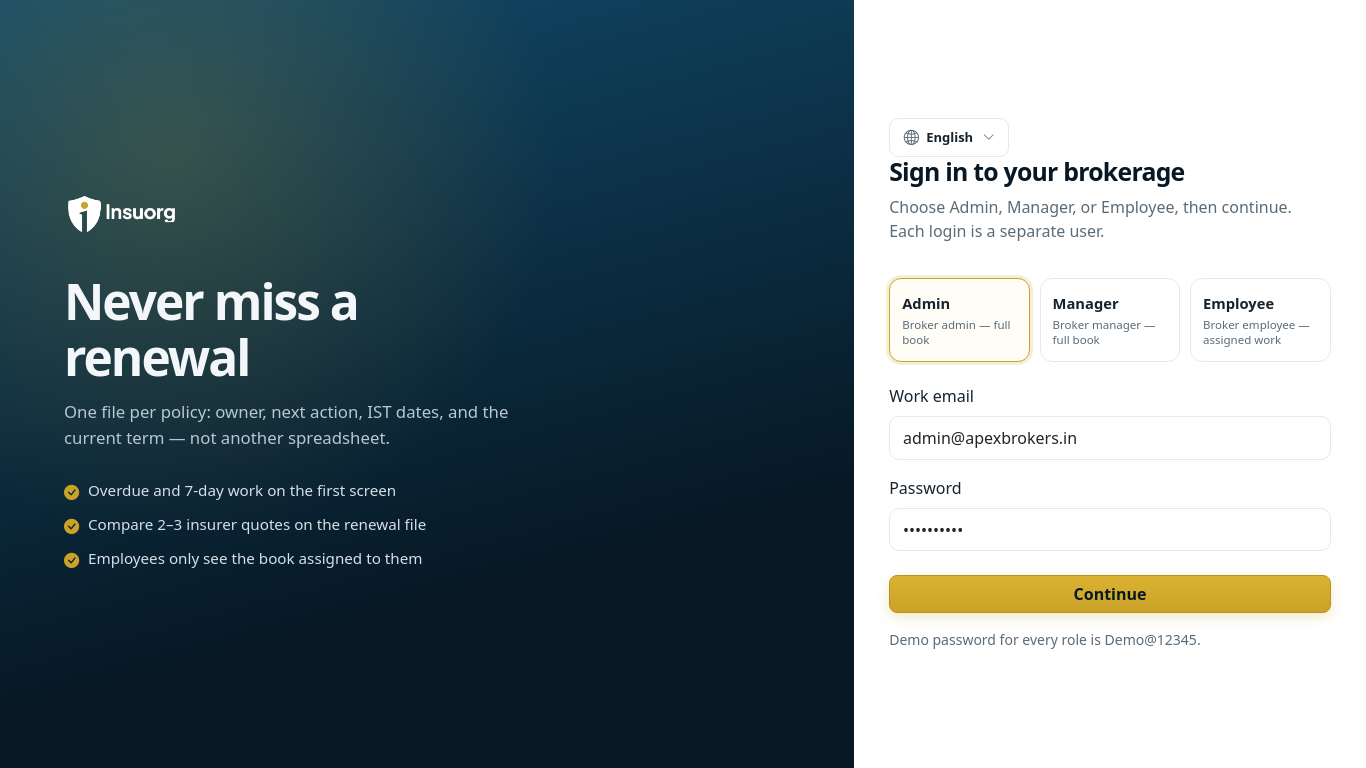
Test: LoginPage › fills a separate manager account from the demo picker
The width and height of the screenshot is (1366, 768).
Click the button "Manager Broker manager — full book" at (1110, 320), box [1040,278,1180,362]
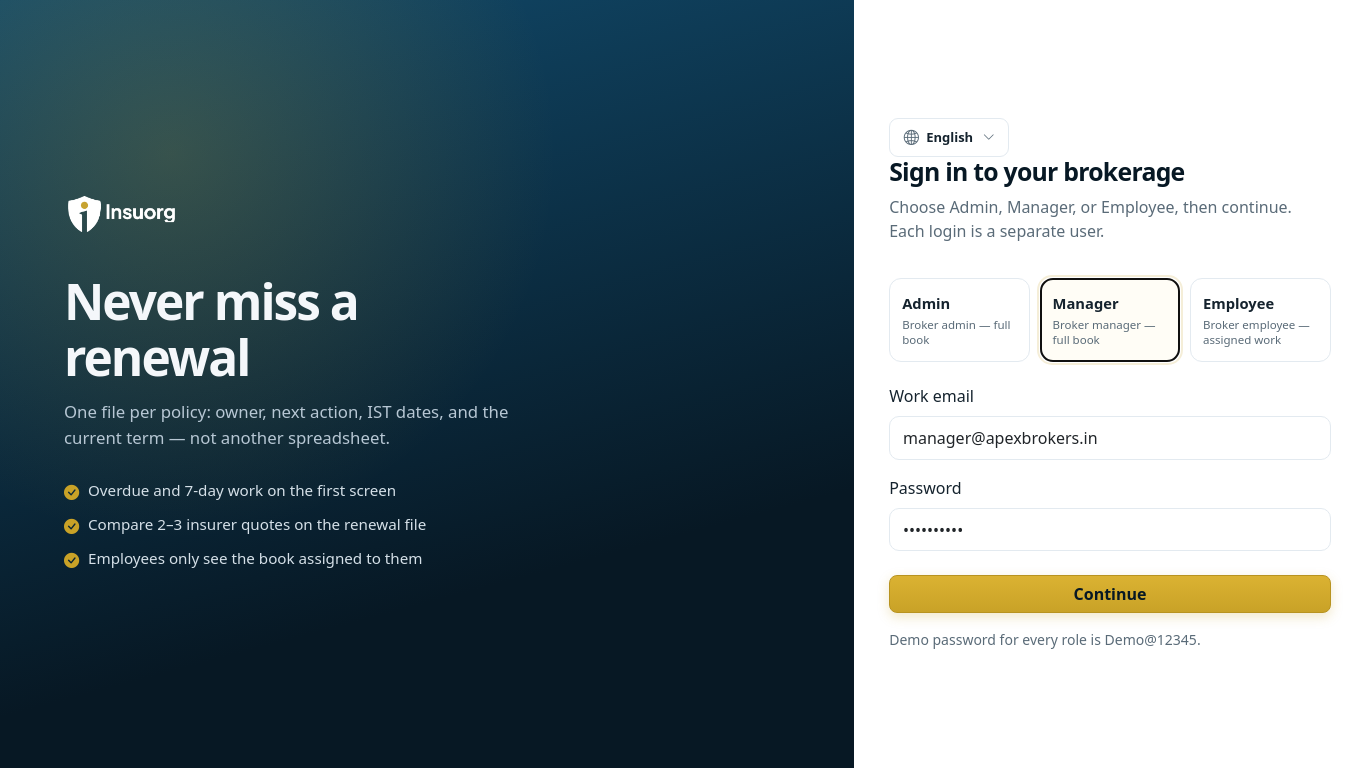
Expected: the password field labelled "Password" holds "Demo@12345", [889,508,1331,551]
Expected: the field labelled "Work email" holds "manager@apexbrokers.in", [889,416,1331,460]
